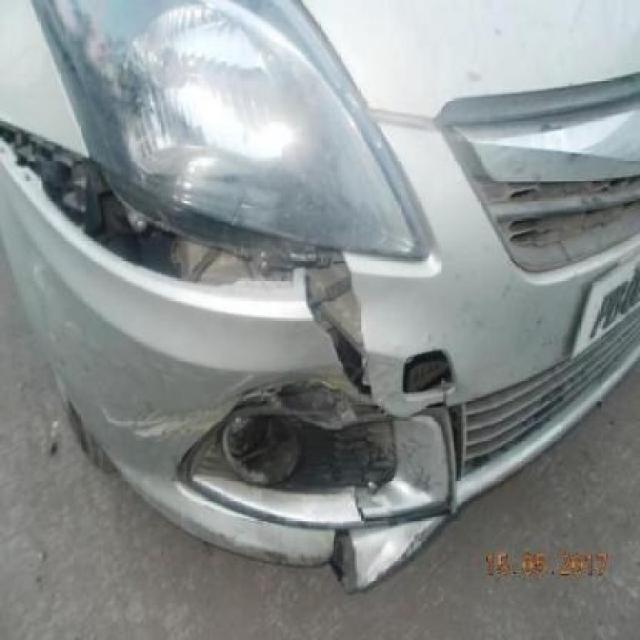damage: (0, 110, 351, 298), (184, 383, 401, 496), (299, 244, 377, 403), (98, 368, 255, 444), (397, 512, 442, 567), (401, 434, 438, 500), (326, 527, 361, 594), (417, 387, 457, 419), (349, 488, 372, 527)
